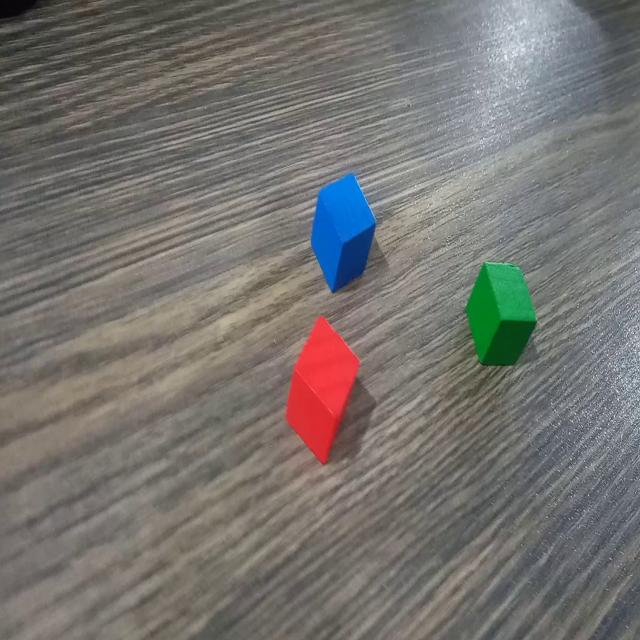cube: (283, 314, 361, 466), (306, 170, 379, 293), (463, 259, 539, 369)
